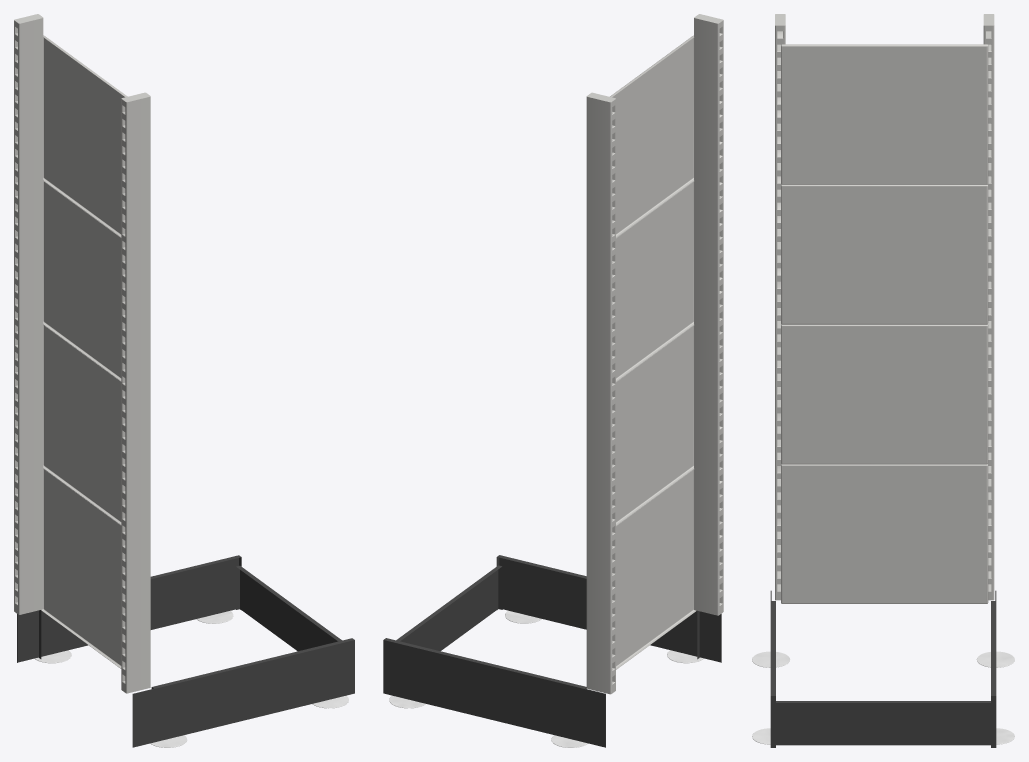
The model's file is ShelvesBase06.fbx.
The picture shows the model from 3 angles, left to right: view 1: azimuth 30°, elevation 25°; view 2: azimuth 150°, elevation 25°; view 3: azimuth 270°, elevation 25°; orthographic projection. The views are drawn at different scales.
Visible parts, largest first — view 1: ShelvesBase06; view 2: ShelvesBase06; view 3: ShelvesBase06.
Boxes of the visible parts, x1=… form: ShelvesBase06: x1=14, y1=14, x2=354, y2=747; ShelvesBase06: x1=383, y1=14, x2=723, y2=747; ShelvesBase06: x1=752, y1=14, x2=1014, y2=747.
Size of what is drawn, in the model's own units: 73.23 by 75.77 by 200.
3 materials, 1 textured.
